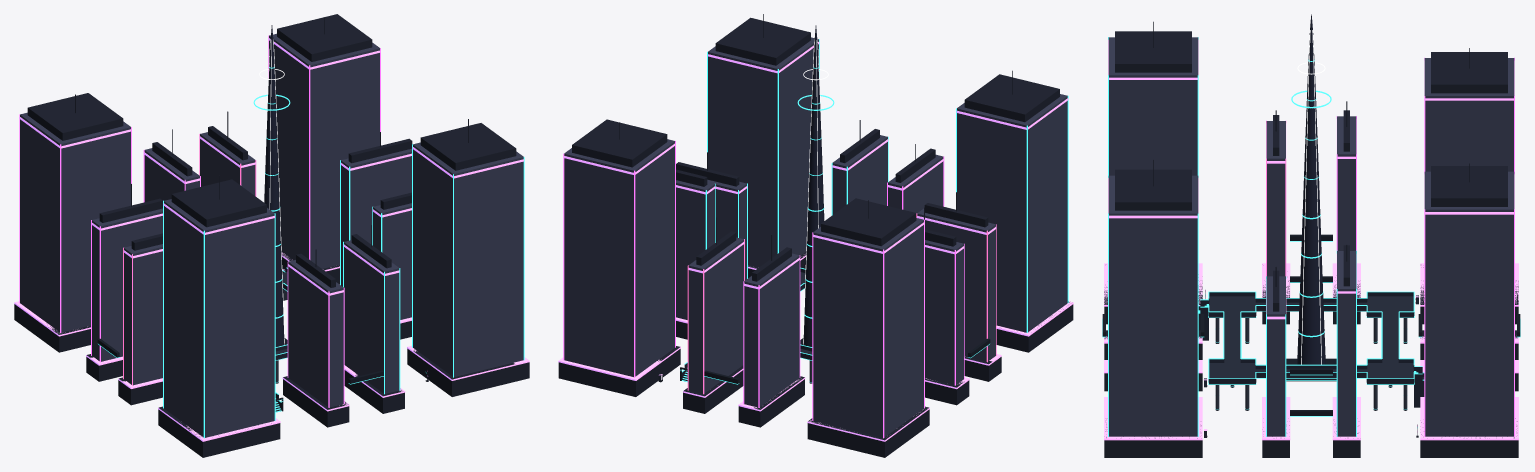
3 renders of one model, left to right at view 1: azimuth 30°, elevation 25°; view 2: azimuth 150°, elevation 25°; view 3: azimuth 270°, elevation 25°, orthographic. The views are drawn at different scales.
Parts seen in each view (by area): view 1: district_city_cero.lod1; view 2: district_city_cero.lod1; view 3: district_city_cero.lod1.
Boxes of the visible parts, box(x1,y1,x2,y2) form: district_city_cero.lod1: box(14, 14, 529, 457); district_city_cero.lod1: box(558, 14, 1073, 457); district_city_cero.lod1: box(1102, 14, 1520, 457).
Bounding box in the file's own units: 97.84 × 92 × 97.84.
